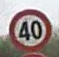limite 40: (7, 8, 53, 50)
